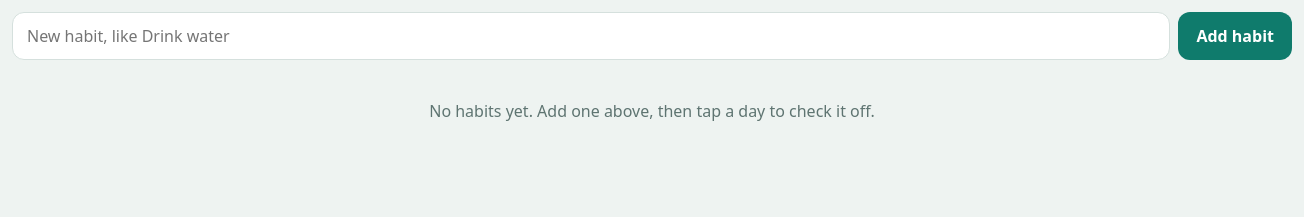
Test case: HabitTracker › HAB-01: marks a day done and unmarks it on a second tap
The image size is (1304, 217).
In the field labelled "New habit": (591, 36) [12,12,1170,60], type "Read"
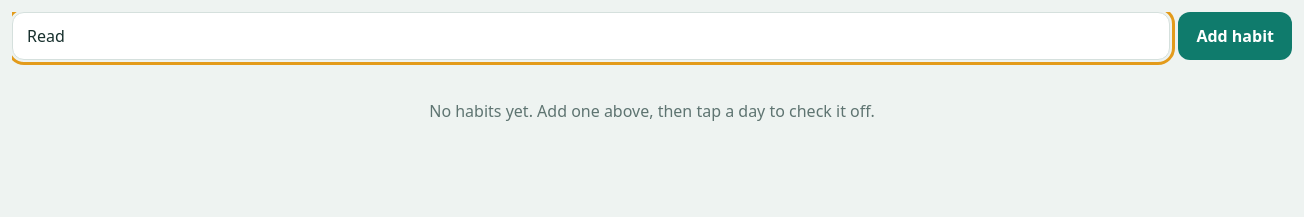
Click the button "Add habit": (1235, 36) [1178,12,1292,60]
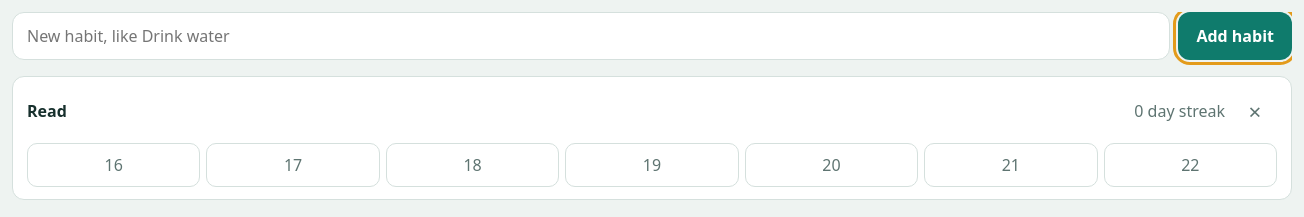
Click the button named "Read on 2026-11-22": (1190, 165) [1104,143,1277,187]
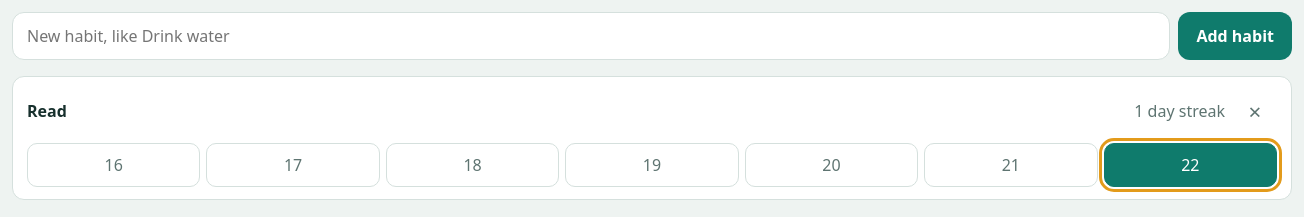
Expected: the button named "Read on 2026-11-22" is pressed
Click the button named "Read on 2026-11-22": (1190, 165) [1104,143,1277,187]
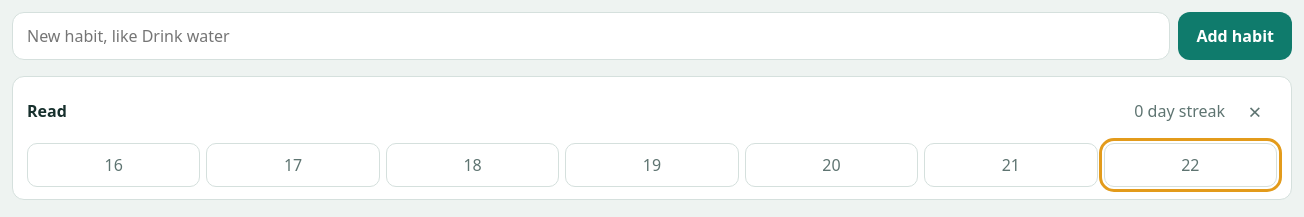
Expected: the button named "Read on 2026-11-22" is not pressed, [1104,143,1277,187]
